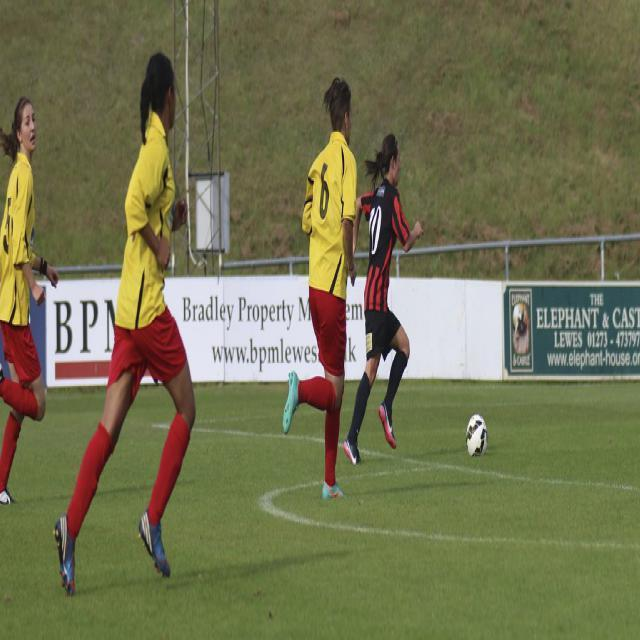ball: (467, 414, 488, 456)
